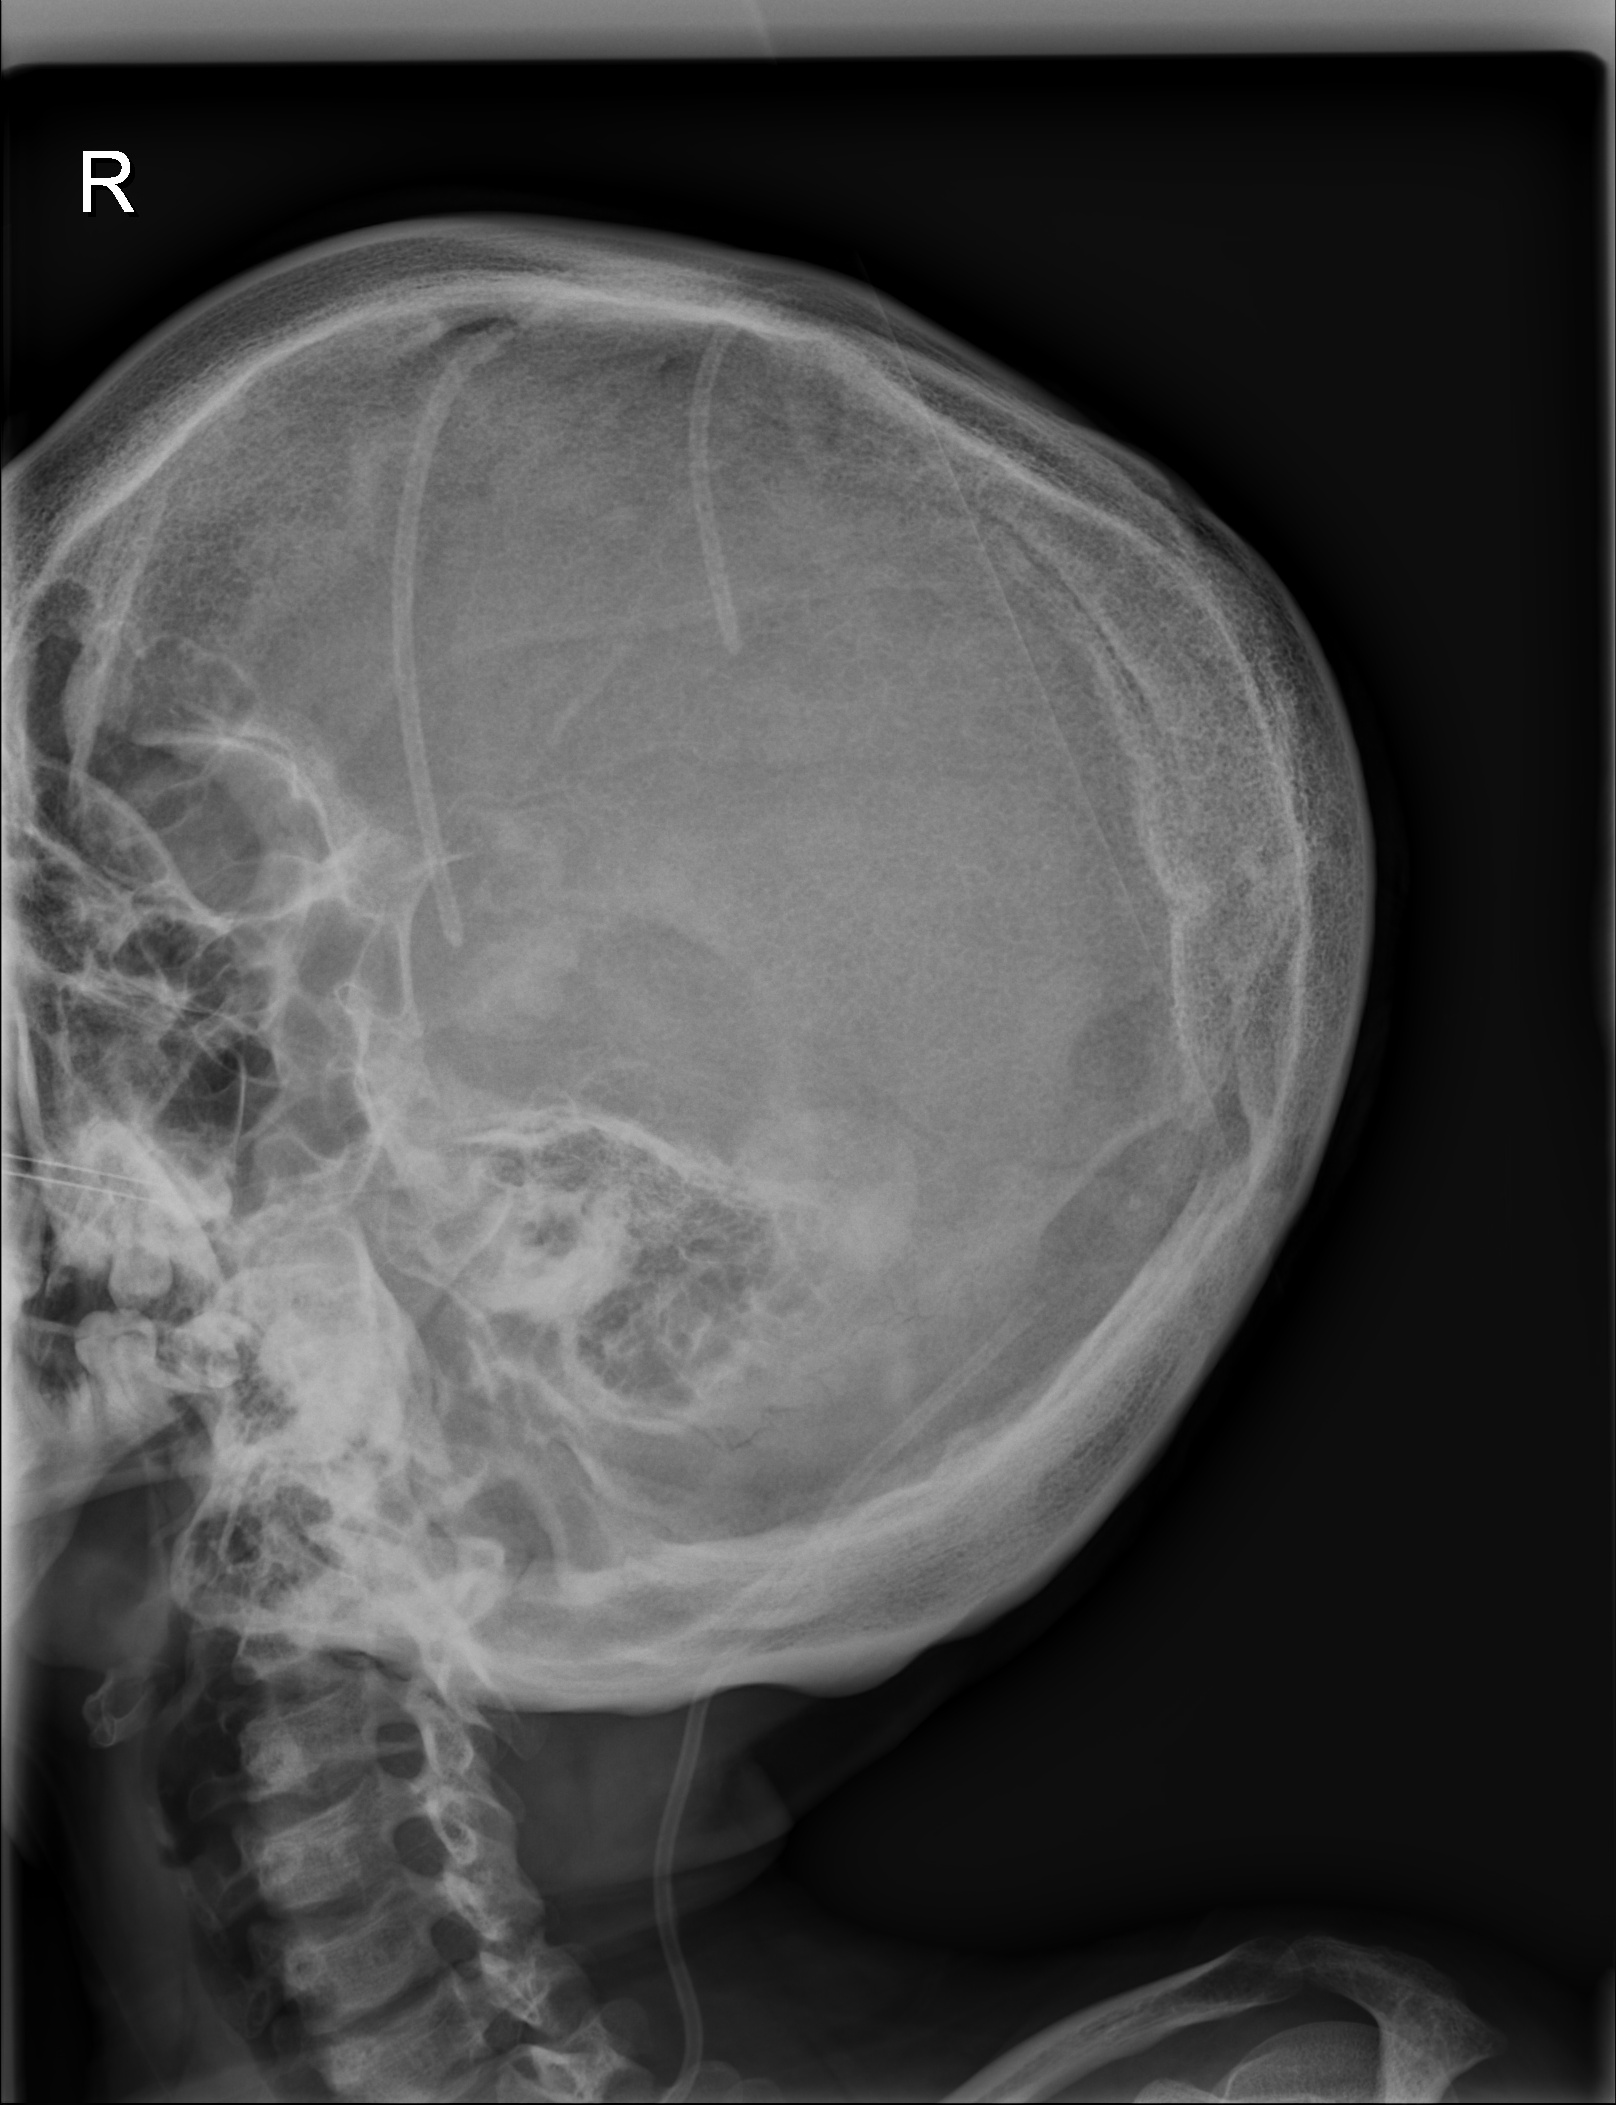Codman Uni-Shunt: (1012, 1122, 1239, 1326)
